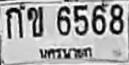5: (73, 4, 88, 35)
6: (91, 3, 106, 34), (56, 5, 70, 35)
8: (109, 3, 123, 33)
A01: (5, 5, 24, 38)
A02: (26, 6, 43, 36)
NYK: (37, 46, 94, 60)
